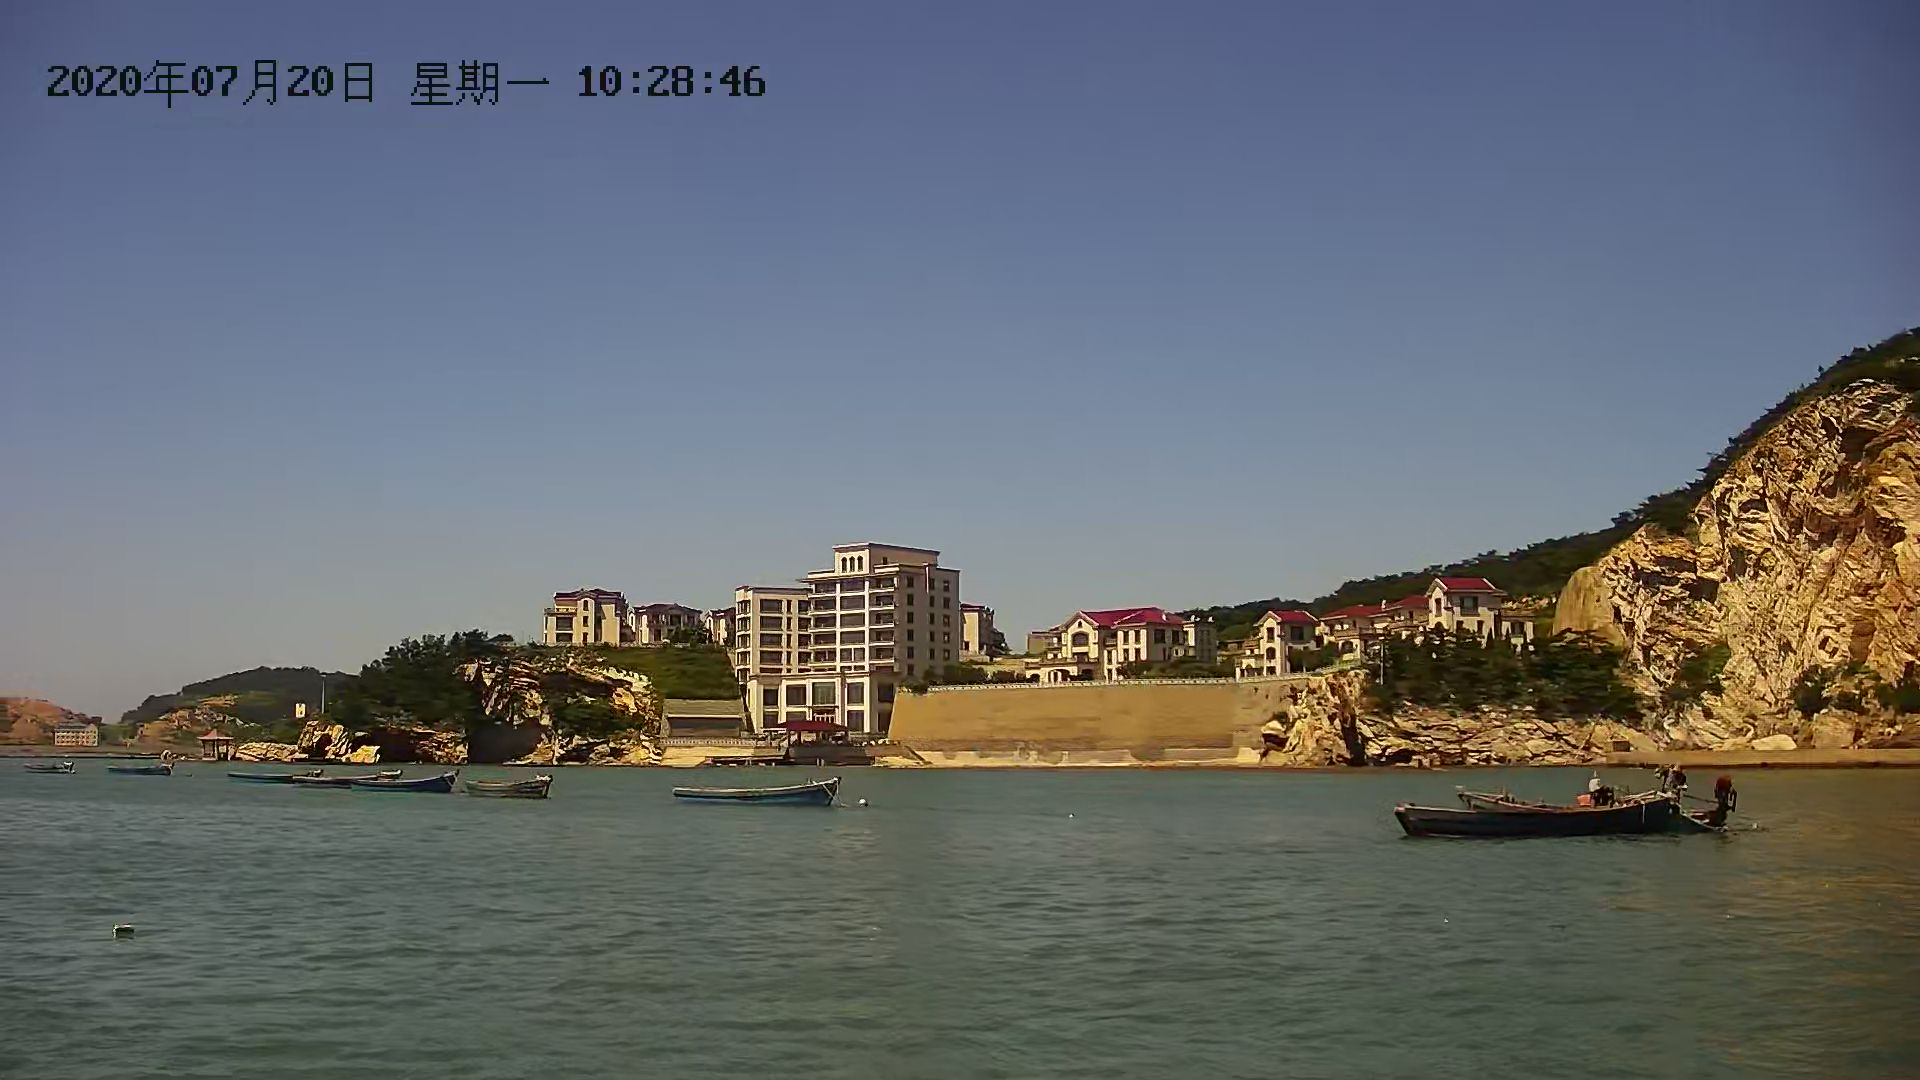boat: (1393, 787, 1733, 835), (671, 778, 843, 811), (349, 767, 454, 799), (465, 779, 550, 806), (105, 760, 171, 785)
rubbish: (104, 907, 142, 942)
